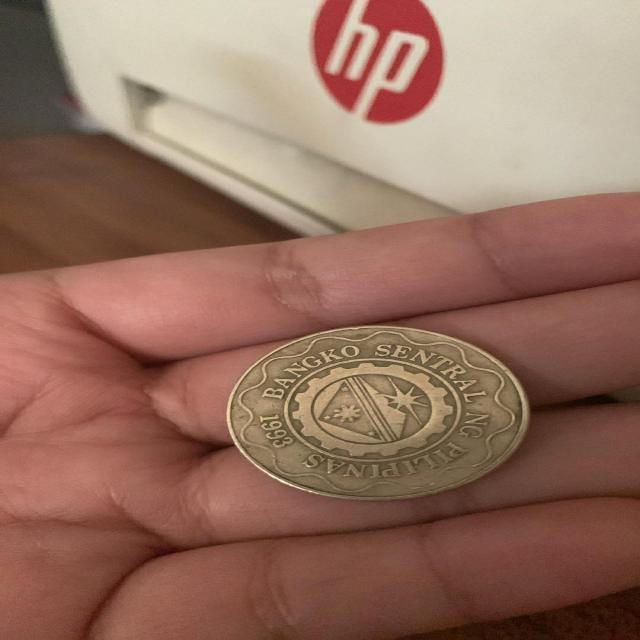5 peso-old: (219, 320, 545, 507)
